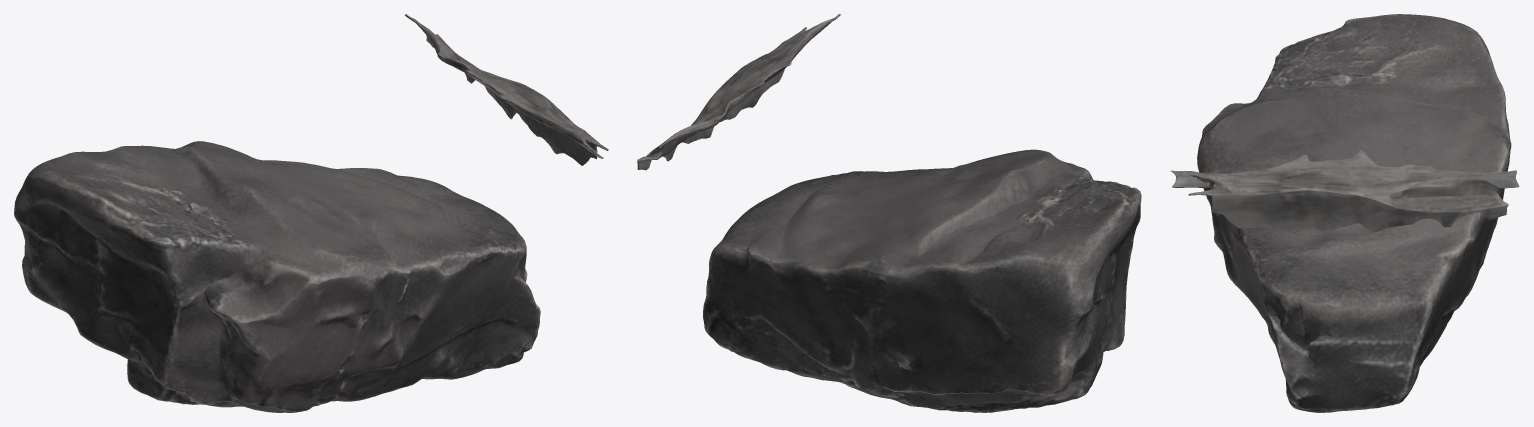
3 renders of one model, left to right at view 1: azimuth 30°, elevation 25°; view 2: azimuth 150°, elevation 25°; view 3: azimuth 270°, elevation 25°, orthographic. The views are drawn at different scales.
Visible parts, largest first — view 1: world; view 2: world; view 3: world.
Part boxes in pixels (left/top/right/bottom): world: left=14, top=14, right=608, bottom=412; world: left=637, top=14, right=1141, bottom=412; world: left=1170, top=14, right=1519, bottom=412.
Size of the model in its own units: 3.5 by 2.07 by 2.57.
1 material, 1 textured.
